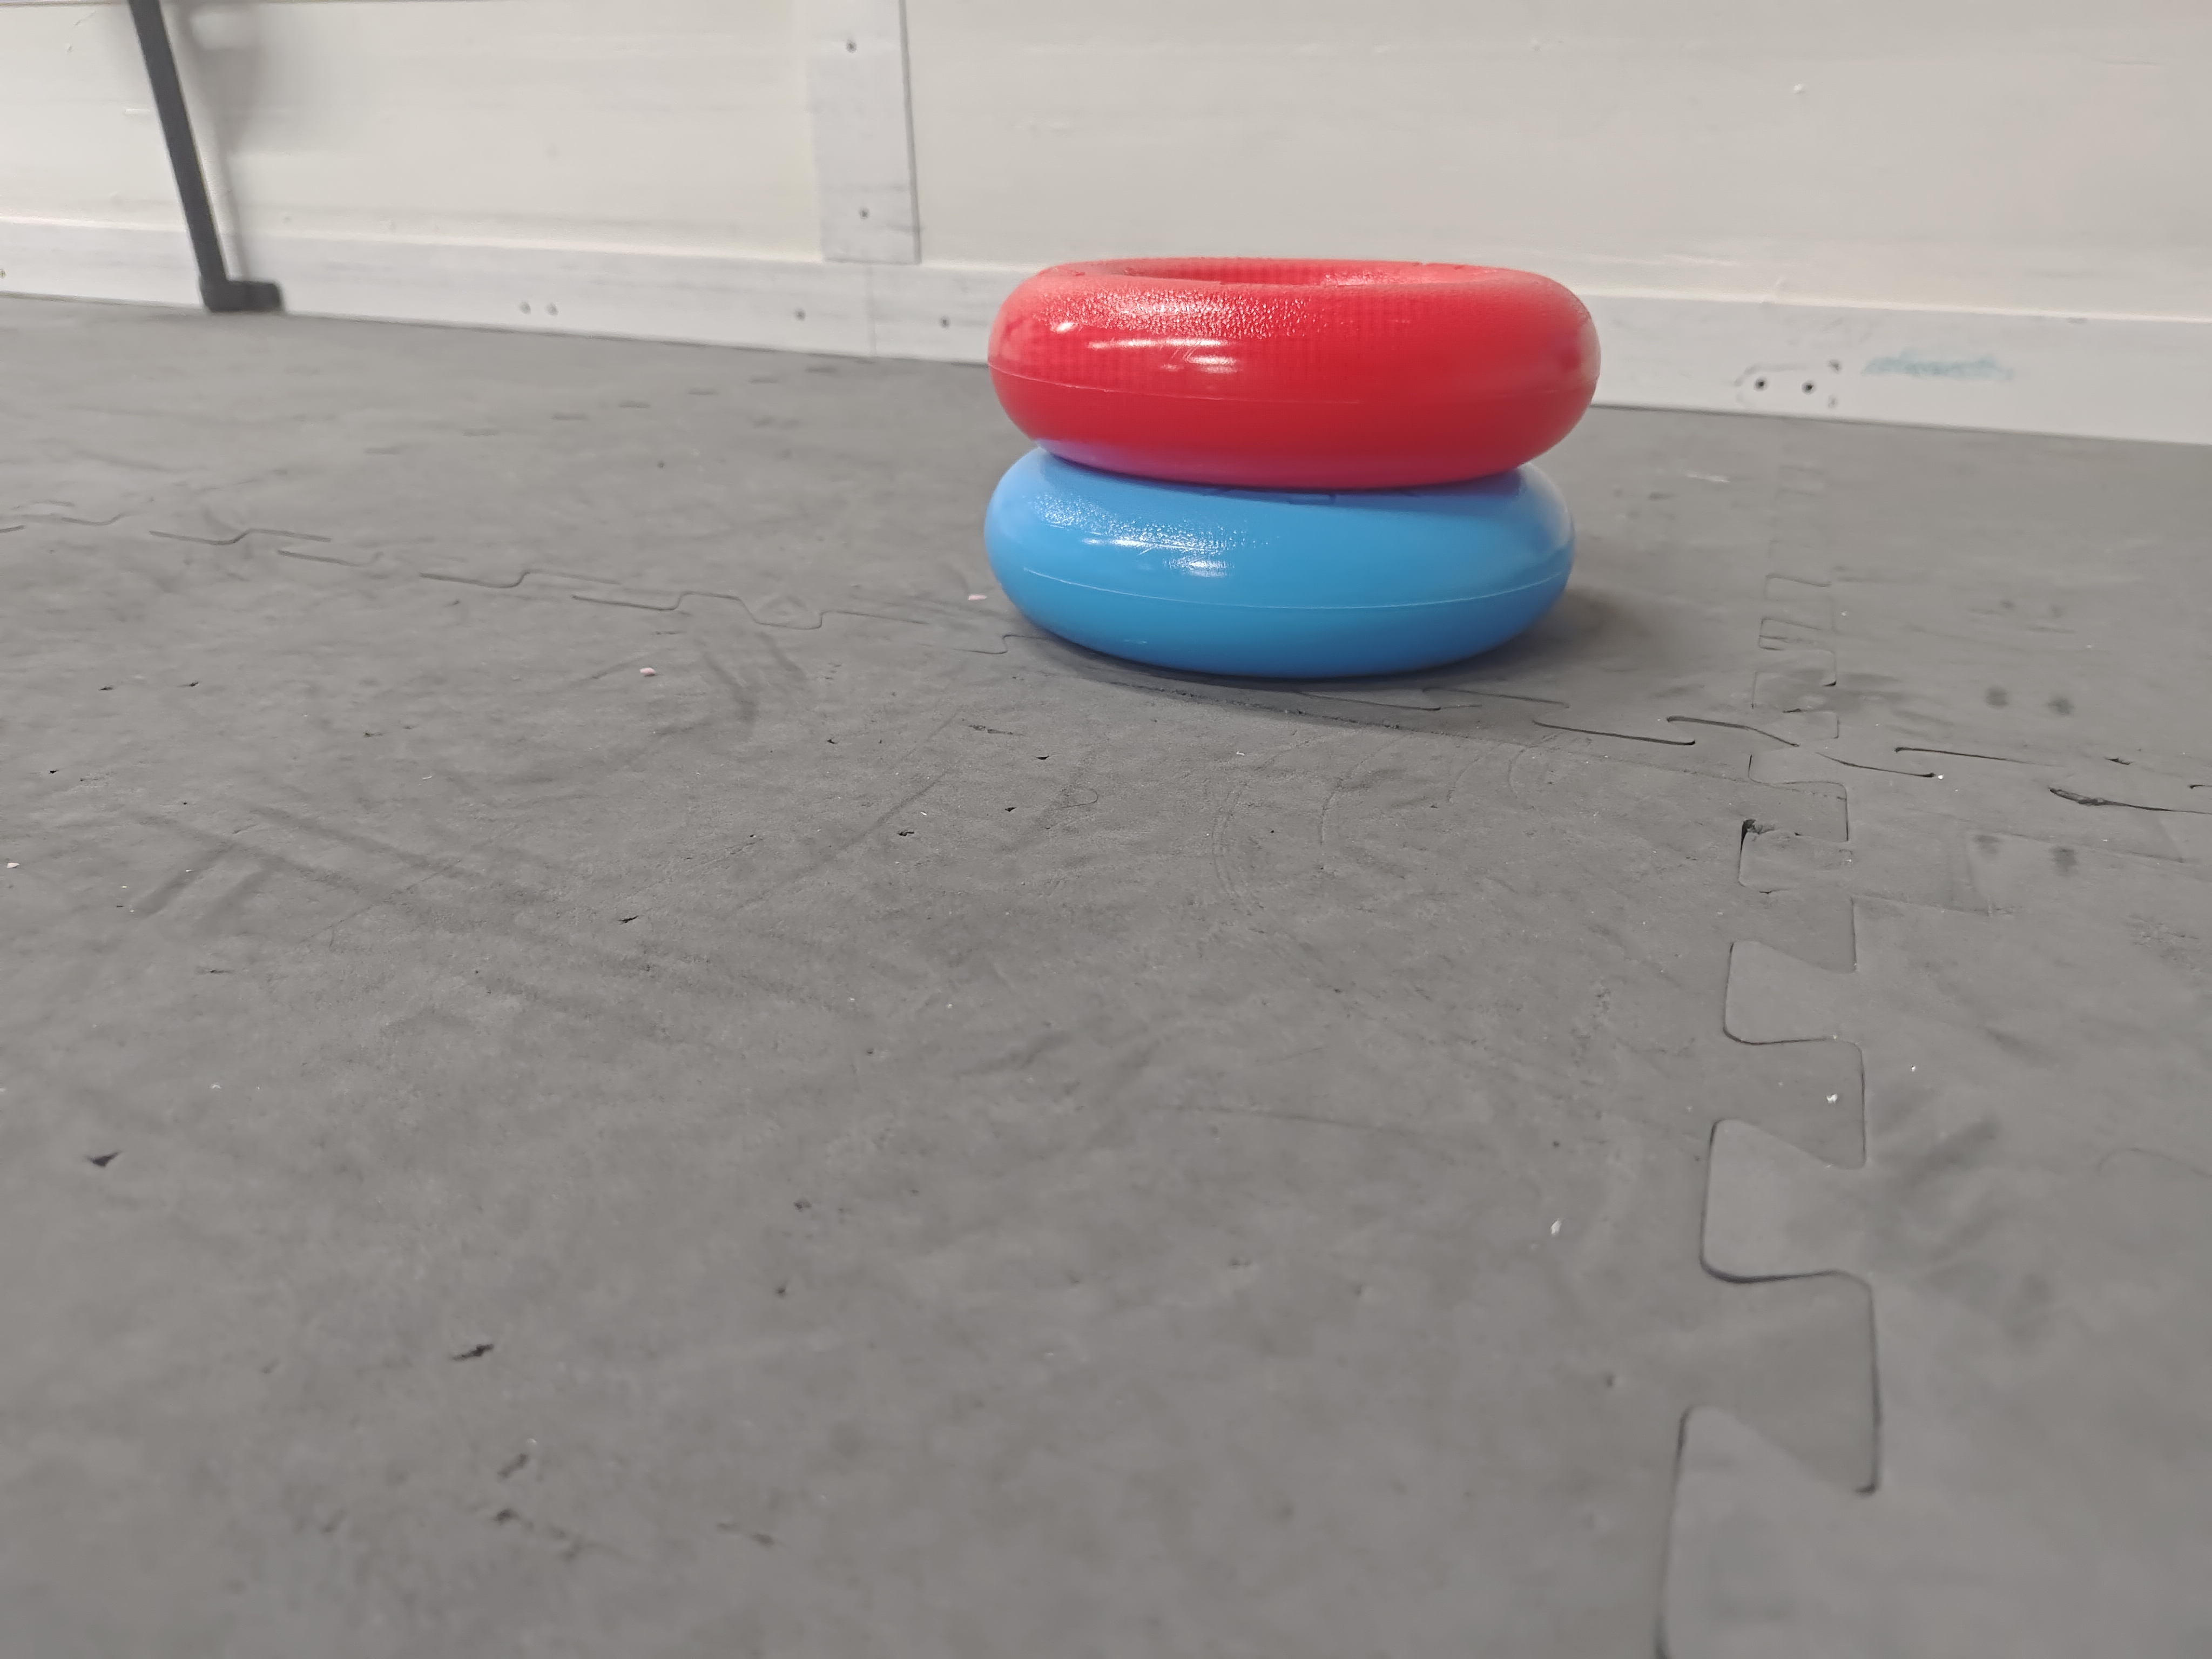blue: (979, 441, 1575, 681)
red: (986, 260, 1609, 498)
